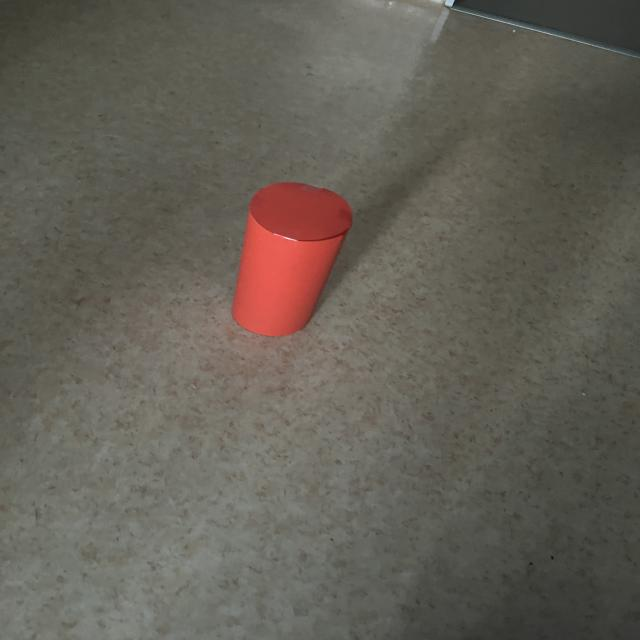przeszkoda: (232, 183, 352, 336)
